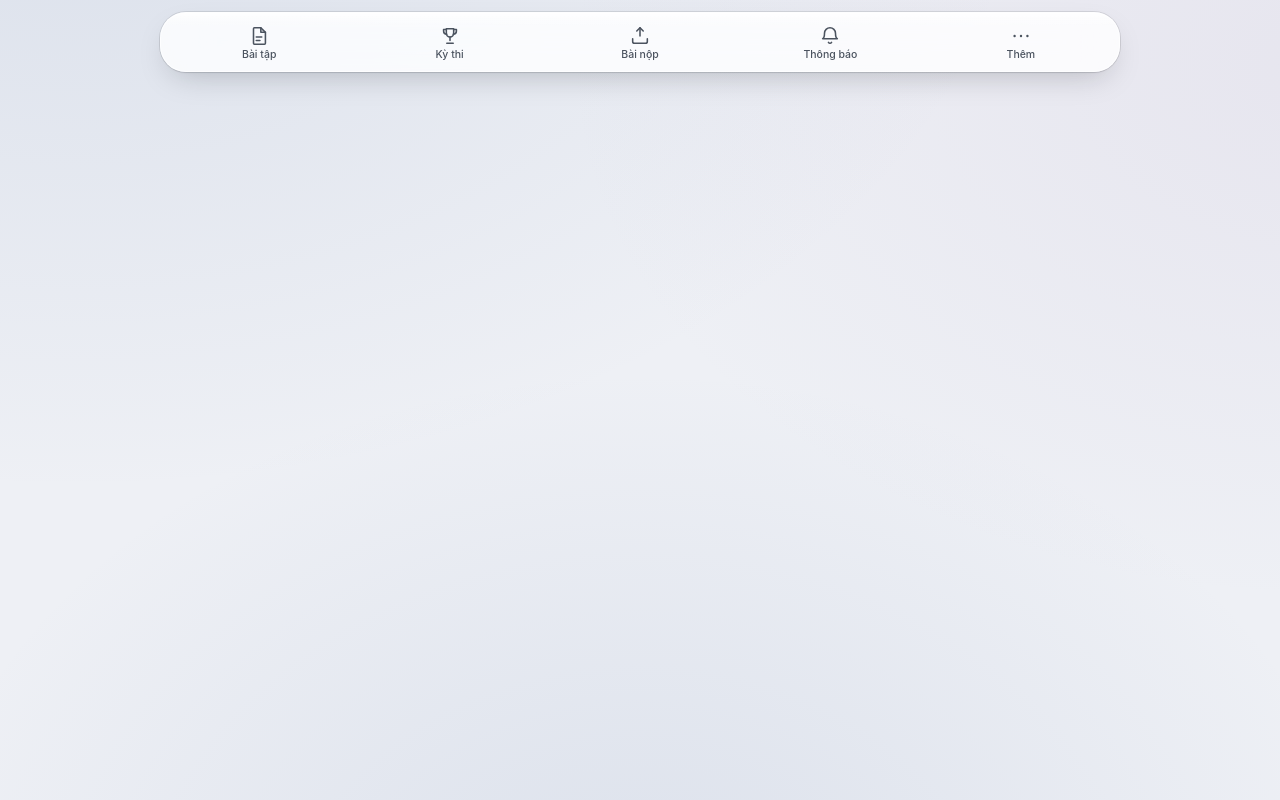
Test case: the phone bar is a real tab bar › holds everything else in the sheet, so no route is more than two taps away
Click the button "Thêm": coordinates (1021, 44) [927,17,1115,71]
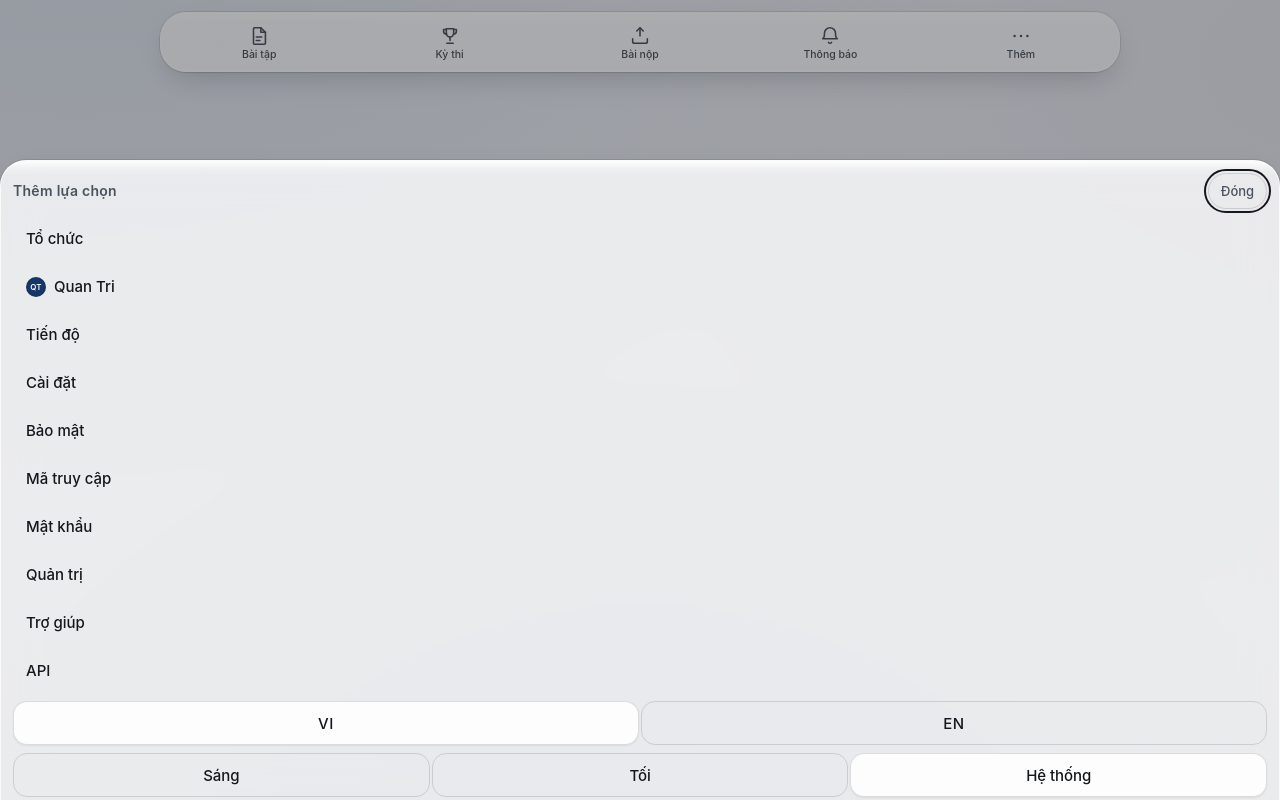
Expected: the link "Tổ chức" is shown, [26,229,84,248]
Expected: the link "Quan Tri" is shown, [26,277,115,297]
Expected: the link "Tiến độ" is shown, [26,325,80,344]
